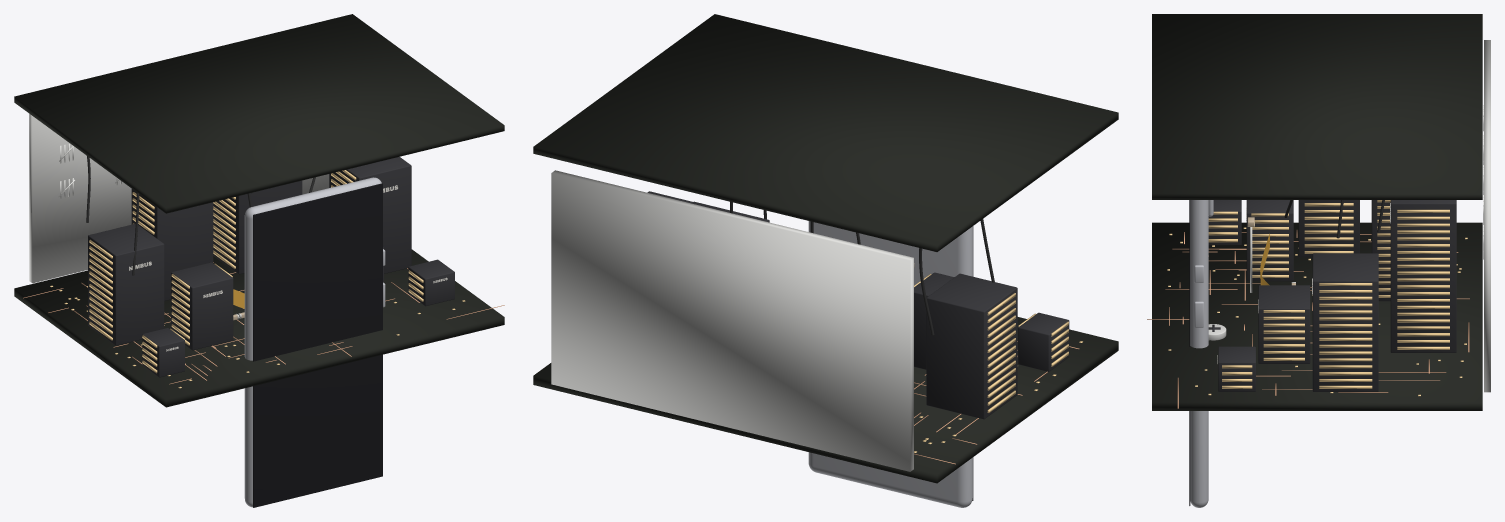
3 views of the same model, side by side, from view 1: azimuth 30°, elevation 25°; view 2: azimuth 150°, elevation 25°; view 3: azimuth 270°, elevation 25° (orthographic). The views are drawn at different scales.
Parts seen in each view (by area): view 1: ceiling, screen, board, shield, chip1, chip0, chip4, chip3, frame, chip5, chip7, chip6; view 2: shield, ceiling, board, chip1, frame, chip6, chip0; view 3: ceiling, board, chip5, chip3, frame, chip2, chip0, shield, chip1, chip7, chip4, chip6 (+1 smaller).
Part boxes in pixels (left/top/right/bottom): ceiling: left=14, top=14, right=504, bottom=213; screen: left=253, top=183, right=382, bottom=507; board: left=14, top=249, right=504, bottom=407; shield: left=29, top=114, right=329, bottom=283; chip1: left=88, top=223, right=164, bottom=345; chip0: left=171, top=262, right=233, bottom=350; chip4: left=131, top=189, right=213, bottom=300; chip3: left=329, top=157, right=411, bottom=273; frame: left=244, top=177, right=381, bottom=507; chip5: left=213, top=180, right=302, bottom=274; chip7: left=408, top=259, right=454, bottom=306; chip6: left=142, top=328, right=184, bottom=377; shield: left=551, top=170, right=913, bottom=471; ceiling: left=533, top=14, right=1118, bottom=251; board: left=533, top=317, right=1118, bottom=483; chip1: left=926, top=273, right=1017, bottom=419; frame: left=808, top=221, right=972, bottom=507; chip6: left=1018, top=312, right=1069, bottom=371; chip0: left=914, top=272, right=954, bottom=369; ceiling: left=1152, top=14, right=1482, bottom=199; board: left=1152, top=222, right=1482, bottom=410; chip5: left=1390, top=200, right=1456, bottom=352; chip3: left=1312, top=253, right=1378, bottom=391; frame: left=1190, top=200, right=1208, bottom=507; chip2: left=1258, top=285, right=1310, bottom=363; chip0: left=1246, top=200, right=1293, bottom=281; shield: left=1484, top=40, right=1490, bottom=392; chip1: left=1298, top=200, right=1359, bottom=257; chip7: left=1218, top=346, right=1255, bottom=391; chip4: left=1371, top=200, right=1390, bottom=301; chip6: left=1208, top=200, right=1241, bottom=245.
Size of the model in its own units: 18.81 by 17.35 by 14.56.
